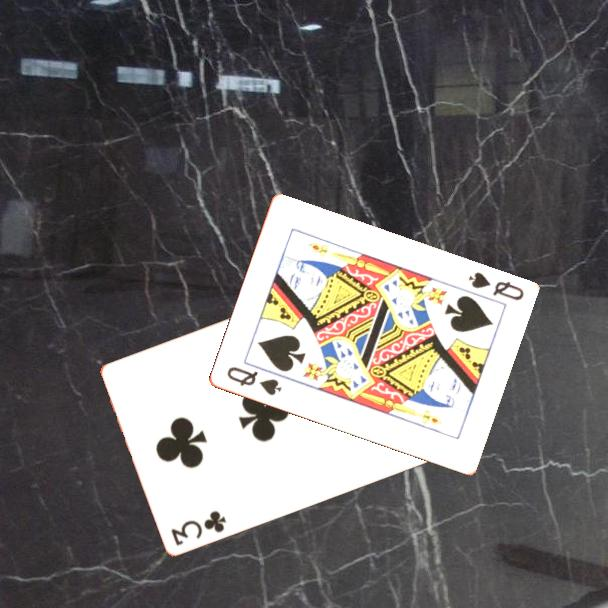c03: (168, 507, 229, 548)
s12: (223, 363, 284, 399), (465, 269, 526, 304)
